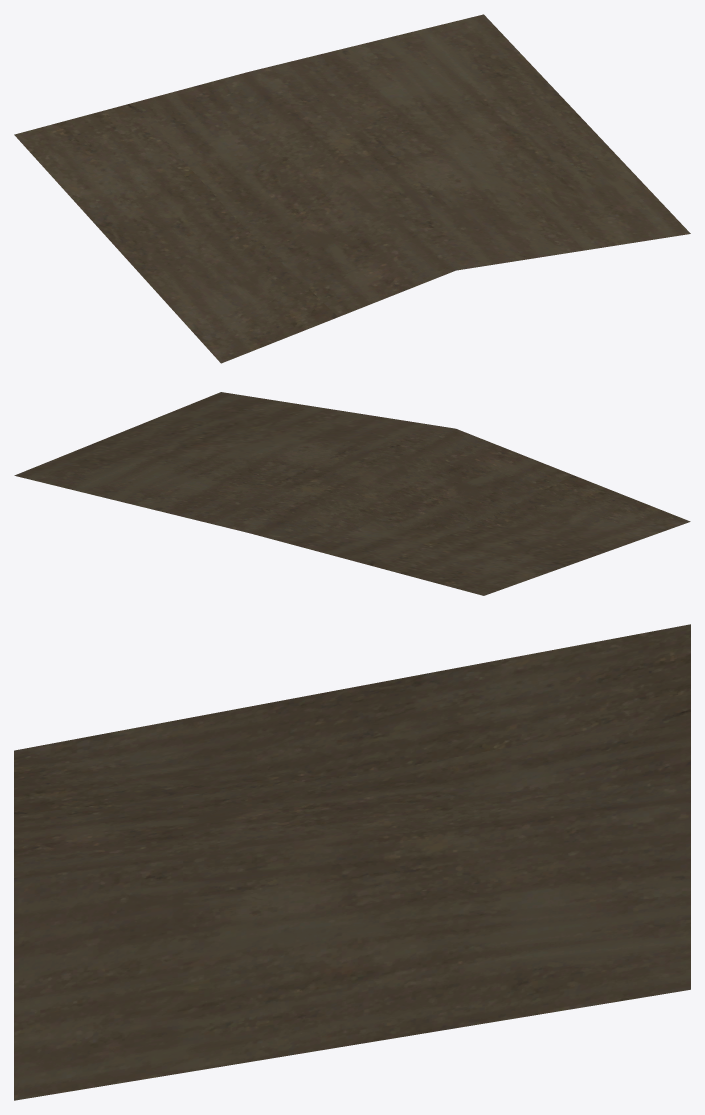
The model's file is blend_path02.fbx.
The picture shows the model from 3 angles, top to bottom: view 1: azimuth 30°, elevation 25°; view 2: azimuth 150°, elevation 25°; view 3: azimuth 270°, elevation 25°; orthographic projection. The views are drawn at different scales.
Parts seen in each view (by area): view 1: new_stone/dirt_road001_blend2_shadow; view 2: new_stone/dirt_road001_blend2_shadow; view 3: new_stone/dirt_road001_blend2_shadow.
Boxes of the visible parts, x1,y1,x2,y2 form: new_stone/dirt_road001_blend2_shadow: (14,14,690,363); new_stone/dirt_road001_blend2_shadow: (14,392,690,595); new_stone/dirt_road001_blend2_shadow: (14,624,690,1100).
Bounding box in the file's own units: 5.36 × 0.9041 × 4.09.
